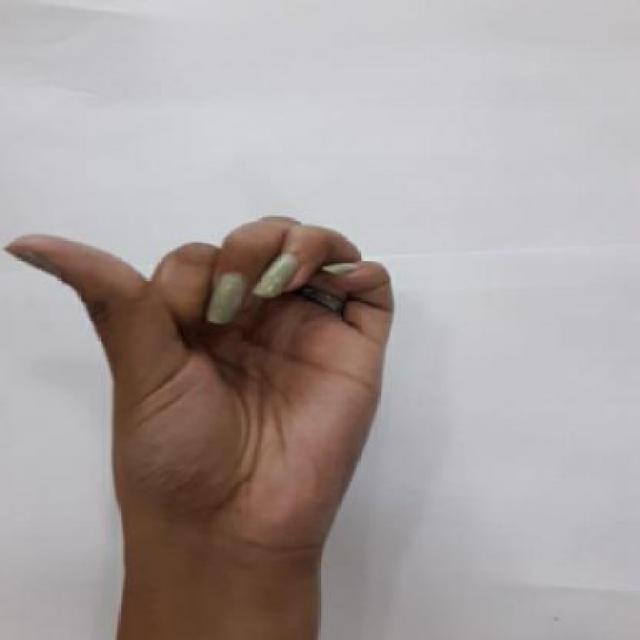without_gloves: (4, 196, 460, 619)
